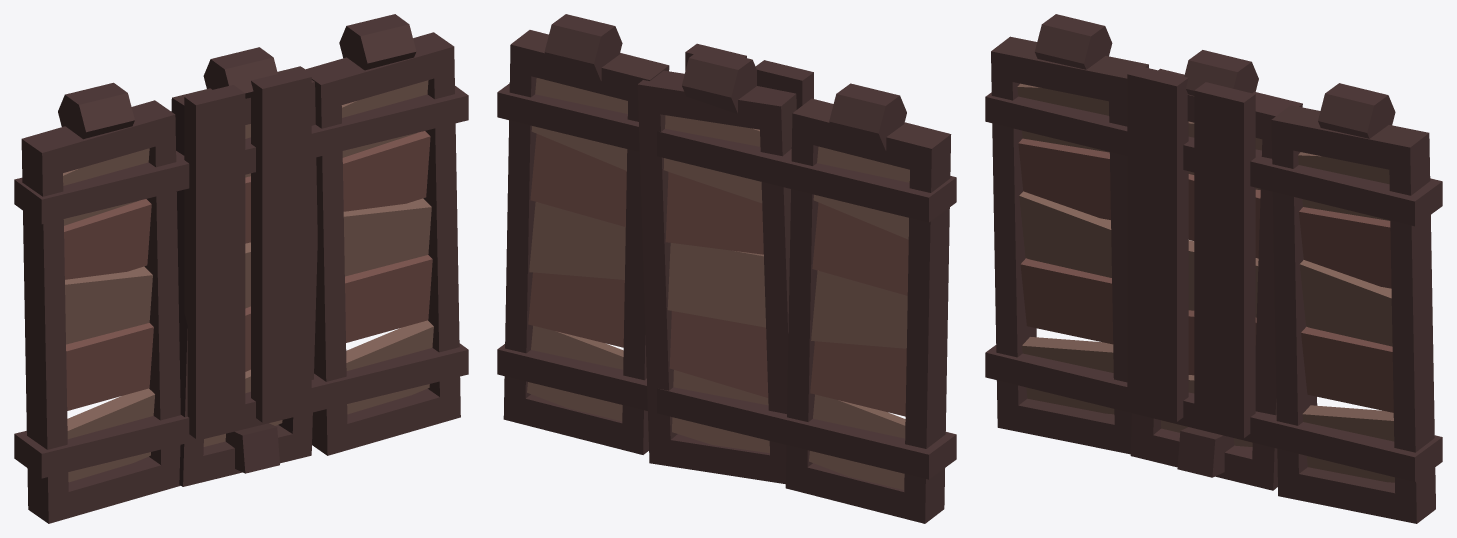
File: DarkRoseWoodMechMediumWindowShutter1.fbx
The picture shows the model from 3 angles, left to right: view 1: azimuth 30°, elevation 25°; view 2: azimuth 150°, elevation 25°; view 3: azimuth 330°, elevation 25°; orthographic projection.
Visible parts, largest first — view 1: DarkRoseWoodMechMediumWindowShutter1; view 2: DarkRoseWoodMechMediumWindowShutter1; view 3: DarkRoseWoodMechMediumWindowShutter1.
Part boxes in pixels (x1,y1,x2,y2): DarkRoseWoodMechMediumWindowShutter1: [14, 14, 468, 523]; DarkRoseWoodMechMediumWindowShutter1: [497, 14, 956, 523]; DarkRoseWoodMechMediumWindowShutter1: [985, 14, 1442, 523].
Size of the model in its own units: 450 by 409 by 67.85.
